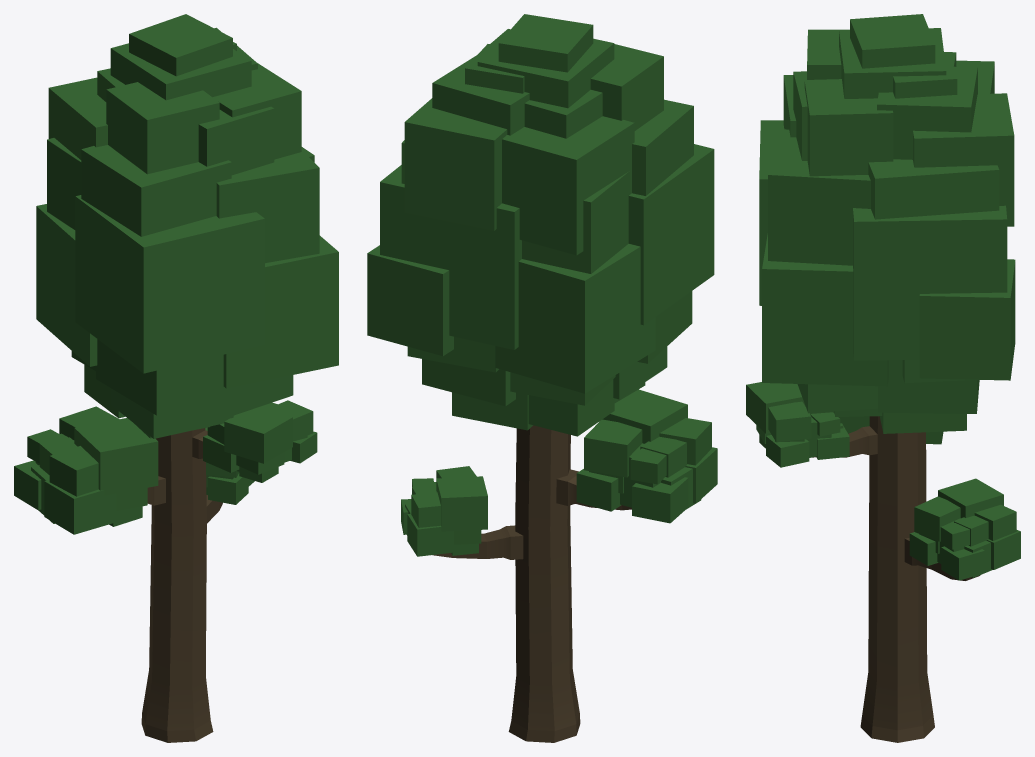
The model's file is Conifer_Tree_Blank.fbx.
3 renders of one model, left to right at view 1: azimuth 30°, elevation 25°; view 2: azimuth 150°, elevation 25°; view 3: azimuth 270°, elevation 25°, orthographic.
Visible parts, largest first — view 1: Foliage_geo_01, Trunk, Bushel_01_geo_grp_Foliage_geo_01, Bushel_03_geo_grp_Foliage_geo_01, Bushel_02_geo_grp_Foliage_geo_01; view 2: Foliage_geo_01, Trunk, Bushel_01_geo_grp_Foliage_geo_01, Bushel_02_geo_grp_Foliage_geo_01; view 3: Foliage_geo_01, Trunk, Bushel_02_geo_grp_Foliage_geo_01, Bushel_03_geo_grp_Foliage_geo_01, Bushel_01_geo_grp_Foliage_geo_01.
Part boxes in pixels (bbox=[...]): Foliage_geo_01: bbox=[36, 14, 338, 438]; Trunk: bbox=[141, 428, 222, 742]; Bushel_01_geo_grp_Foliage_geo_01: bbox=[14, 406, 158, 534]; Bushel_03_geo_grp_Foliage_geo_01: bbox=[203, 400, 317, 482]; Bushel_02_geo_grp_Foliage_geo_01: bbox=[205, 427, 254, 504]; Foliage_geo_01: bbox=[367, 14, 714, 436]; Trunk: bbox=[432, 425, 631, 742]; Bushel_01_geo_grp_Foliage_geo_01: bbox=[576, 389, 717, 523]; Bushel_02_geo_grp_Foliage_geo_01: bbox=[401, 466, 487, 556]; Foliage_geo_01: bbox=[759, 14, 1015, 433]; Trunk: bbox=[812, 416, 980, 742]; Bushel_02_geo_grp_Foliage_geo_01: bbox=[909, 478, 1020, 580]; Bushel_03_geo_grp_Foliage_geo_01: bbox=[746, 382, 849, 467]; Bushel_01_geo_grp_Foliage_geo_01: bbox=[833, 411, 943, 444].
Size of the model in its own units: 274 by 683 by 244.
